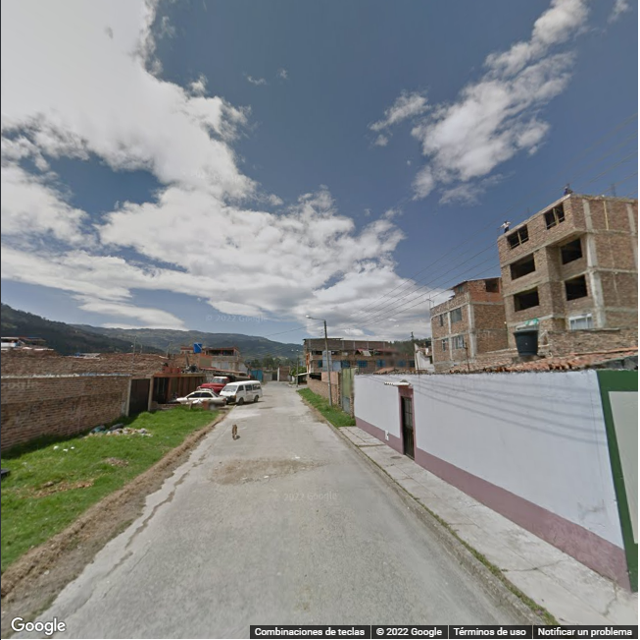D00: (121, 538, 158, 576)
D20: (328, 547, 430, 624)
